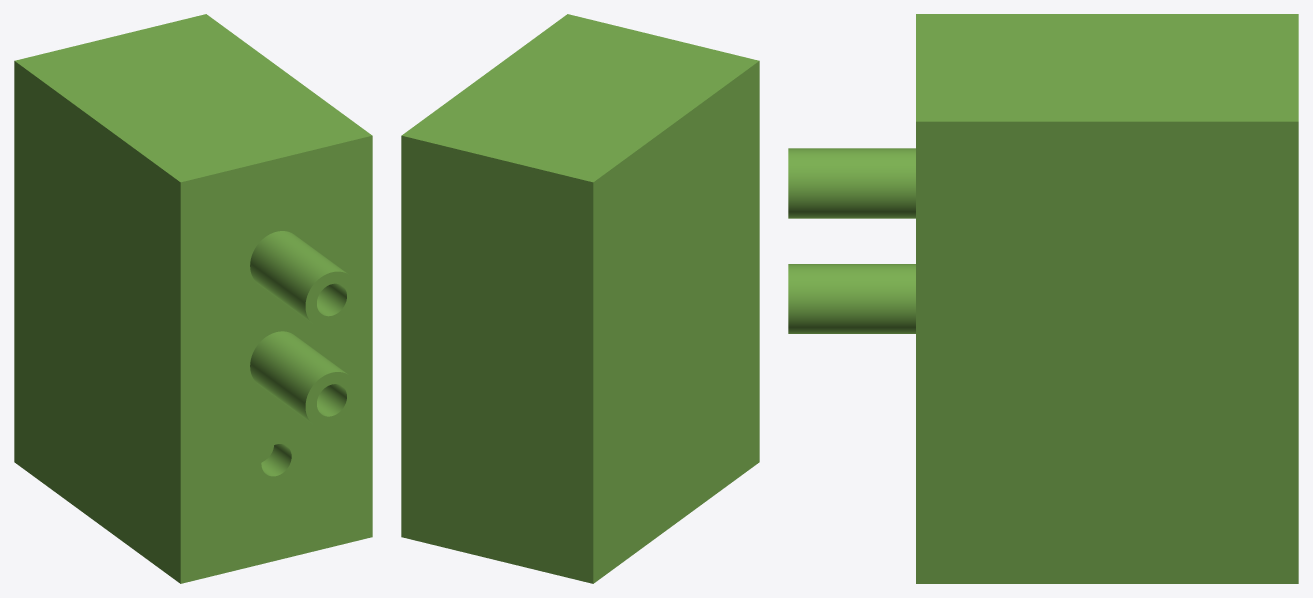
File: Motor.gltf
The picture shows the model from 3 angles, left to right: view 1: azimuth 30°, elevation 25°; view 2: azimuth 150°, elevation 25°; view 3: azimuth 270°, elevation 25°; orthographic projection. The views are drawn at different scales.
Parts seen in each view (by area): view 1: motor; view 2: motor; view 3: motor.
Boxes of the visible parts, x1,y1,x2,y2 form: motor: (14,14,372,583); motor: (401,14,759,583); motor: (788,14,1298,583).
Bounding box in the file's own units: 0.0254 × 0.0508 × 0.0508.
